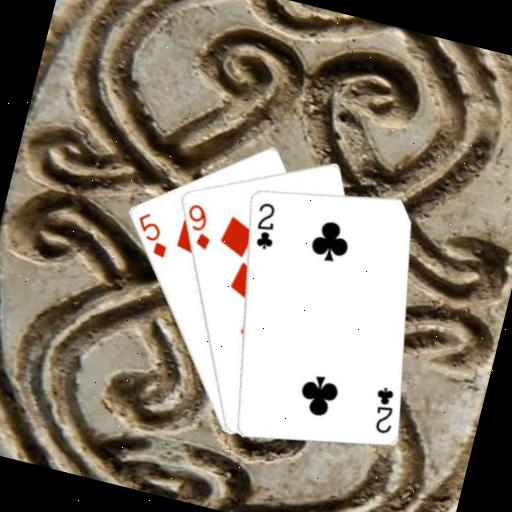2C: (246, 197, 284, 253), (365, 382, 403, 437)
5D: (127, 207, 176, 261)
9D: (176, 199, 220, 253)
